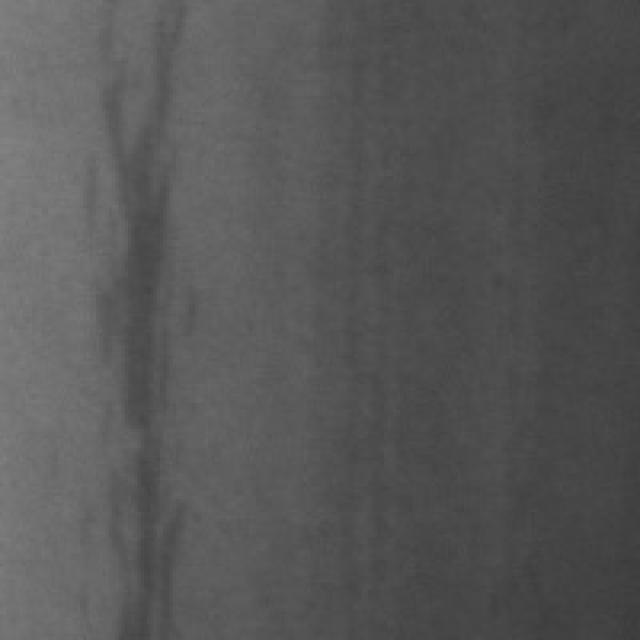inclusion: (80, 0, 202, 634)
